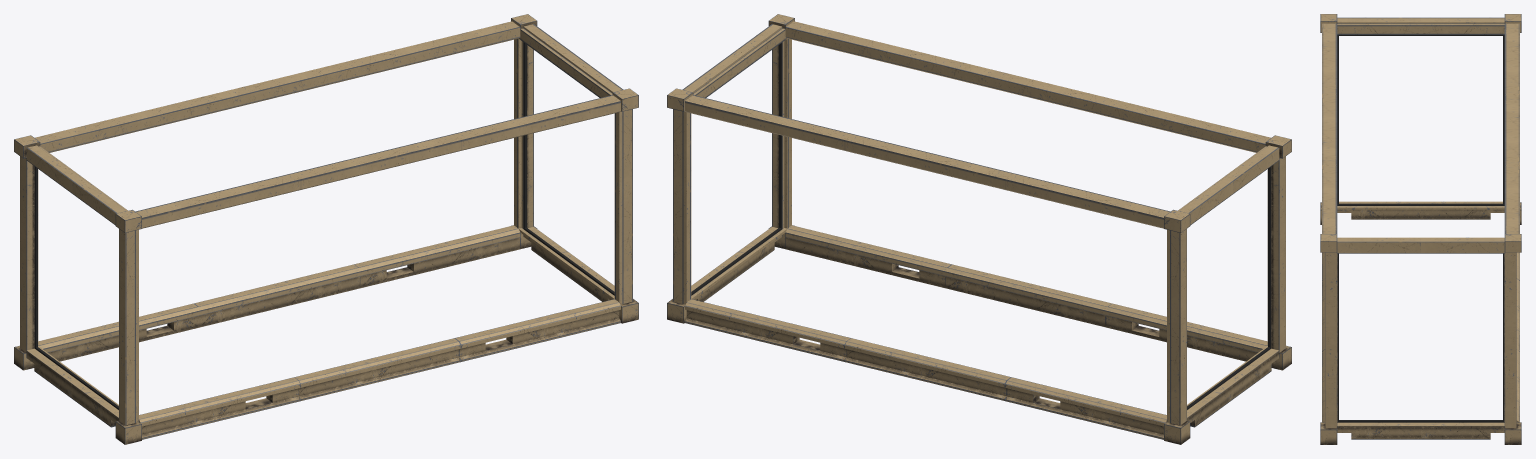
The model's file is CnFrameA2.fbx.
3 renders of one model, left to right at view 1: azimuth 30°, elevation 25°; view 2: azimuth 150°, elevation 25°; view 3: azimuth 270°, elevation 25°, orthographic. The views are drawn at different scales.
Visible parts, largest first — view 1: CnFrameA2; view 2: CnFrameA2; view 3: CnFrameA2.
Boxes of the visible parts, x1,y1,x2,y2 form: CnFrameA2: [14, 14, 638, 444]; CnFrameA2: [667, 14, 1291, 444]; CnFrameA2: [1320, 14, 1521, 444].
Bounding box in the file's own units: 642 × 268 × 240.
